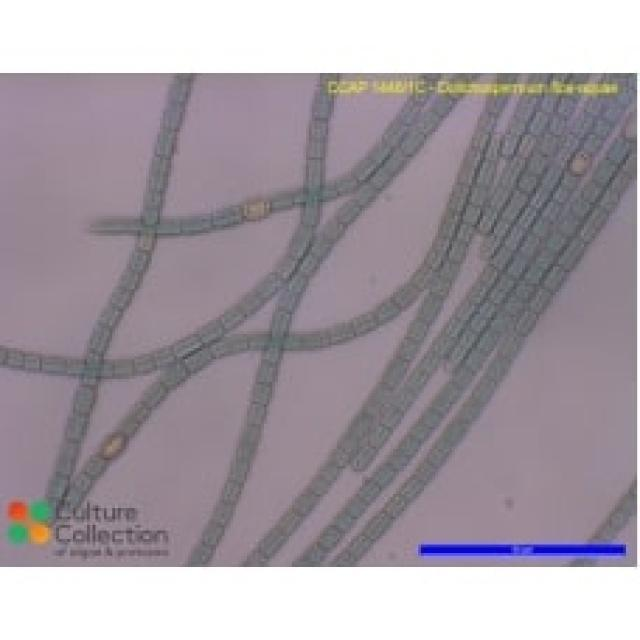Blue Green Algae: (578, 202, 609, 242), (284, 222, 317, 255), (289, 486, 320, 516), (362, 511, 393, 539), (379, 360, 410, 388), (415, 294, 441, 326), (258, 525, 284, 556), (368, 424, 396, 452), (477, 326, 503, 356), (609, 134, 632, 166), (373, 295, 399, 323), (558, 242, 584, 270), (300, 193, 323, 224), (214, 205, 242, 230), (382, 118, 410, 143), (238, 289, 264, 315), (255, 269, 281, 295), (463, 345, 489, 371), (528, 110, 550, 140), (222, 303, 247, 329), (300, 163, 326, 188), (337, 199, 362, 225), (267, 314, 292, 340), (199, 522, 225, 547), (317, 525, 343, 550), (516, 168, 539, 196), (348, 446, 371, 474), (399, 95, 421, 124), (396, 337, 421, 362), (514, 205, 539, 230), (185, 348, 216, 368), (320, 222, 348, 244), (146, 379, 168, 407), (326, 320, 354, 342), (570, 112, 592, 140), (385, 492, 407, 520), (73, 388, 93, 418), (255, 359, 278, 385), (227, 460, 250, 486), (126, 398, 149, 424), (415, 457, 438, 483), (371, 461, 393, 488), (62, 418, 87, 441), (174, 334, 199, 357), (213, 500, 236, 525), (87, 325, 109, 351), (199, 320, 225, 342), (297, 253, 323, 275), (48, 471, 70, 497), (531, 286, 553, 312), (182, 213, 210, 233), (154, 216, 182, 236), (351, 157, 379, 177), (247, 382, 272, 404), (351, 312, 376, 334), (514, 309, 536, 334), (312, 93, 334, 118), (354, 183, 382, 202), (82, 455, 110, 474), (109, 286, 132, 309), (474, 109, 497, 132), (446, 241, 469, 264), (494, 269, 517, 292), (463, 199, 483, 225), (547, 112, 567, 138), (275, 253, 298, 275), (452, 300, 474, 323), (306, 120, 334, 138), (368, 143, 393, 163), (592, 160, 612, 185), (542, 196, 561, 222), (269, 191, 295, 210), (163, 104, 185, 126), (306, 138, 328, 160), (219, 480, 241, 502), (410, 264, 432, 286), (410, 424, 435, 443), (98, 308, 124, 326), (488, 185, 506, 211), (334, 174, 357, 194), (415, 112, 438, 132), (275, 292, 298, 312), (502, 227, 525, 247), (421, 407, 444, 427), (432, 93, 452, 115), (581, 180, 601, 202), (42, 354, 65, 373), (129, 354, 152, 373), (118, 418, 137, 441), (429, 278, 452, 297), (149, 348, 174, 365), (499, 135, 516, 160), (149, 152, 171, 171), (118, 270, 140, 289), (528, 152, 547, 174), (112, 359, 132, 379), (286, 275, 306, 295), (247, 404, 267, 424), (149, 171, 168, 191), (129, 253, 149, 272), (460, 149, 480, 168), (491, 247, 508, 269), (6, 351, 25, 370), (264, 343, 283, 362), (514, 281, 533, 300), (458, 222, 474, 244), (511, 115, 525, 138), (472, 129, 488, 149), (143, 191, 160, 208), (553, 185, 570, 202), (458, 168, 477, 182), (26, 354, 40, 371), (154, 132, 174, 143), (452, 186, 472, 197)
